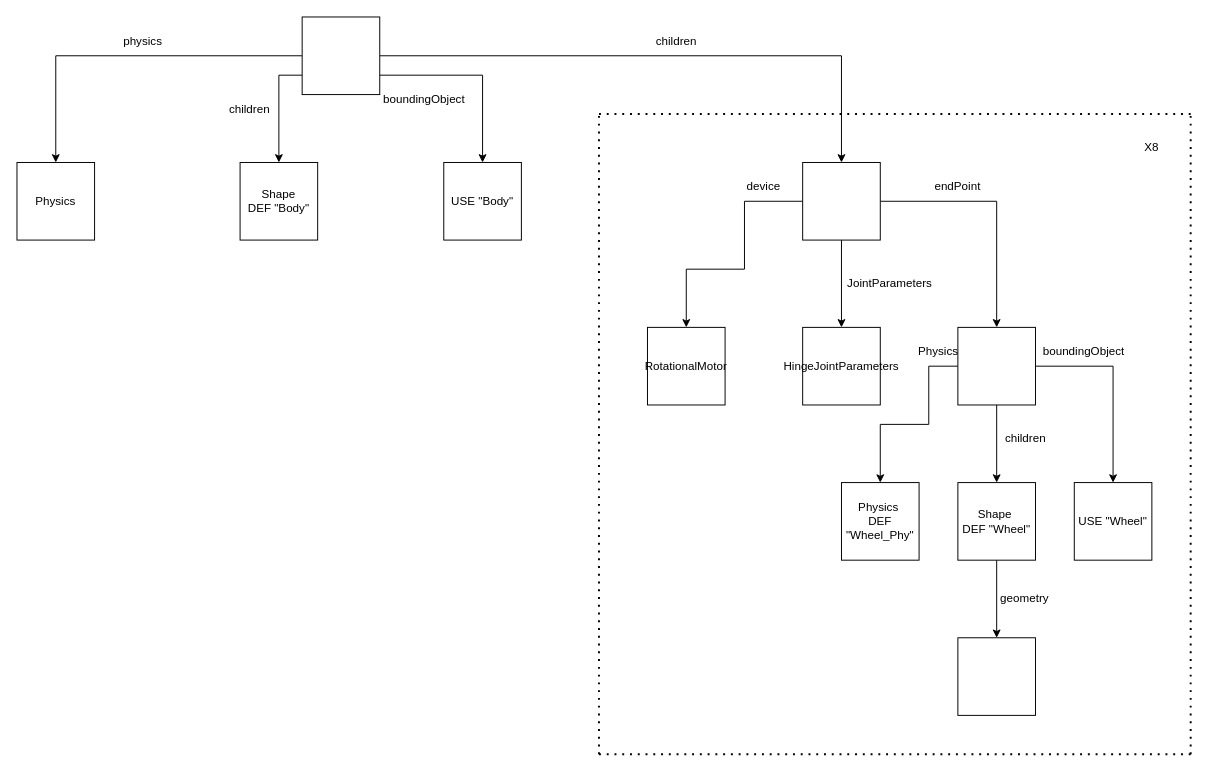
This 1210x773 diagram has some shape labels left out. The shapes that lost their labels are listed below. From the top down, each one's box as (x1, y1, x2, y2) in pixels, then its label:
(301, 16, 380, 95): Robot
(802, 162, 880, 240): HingeJoint
(957, 326, 1035, 405): Solid DEF "Wheel <X>"
(957, 637, 1035, 715): Cylinder
